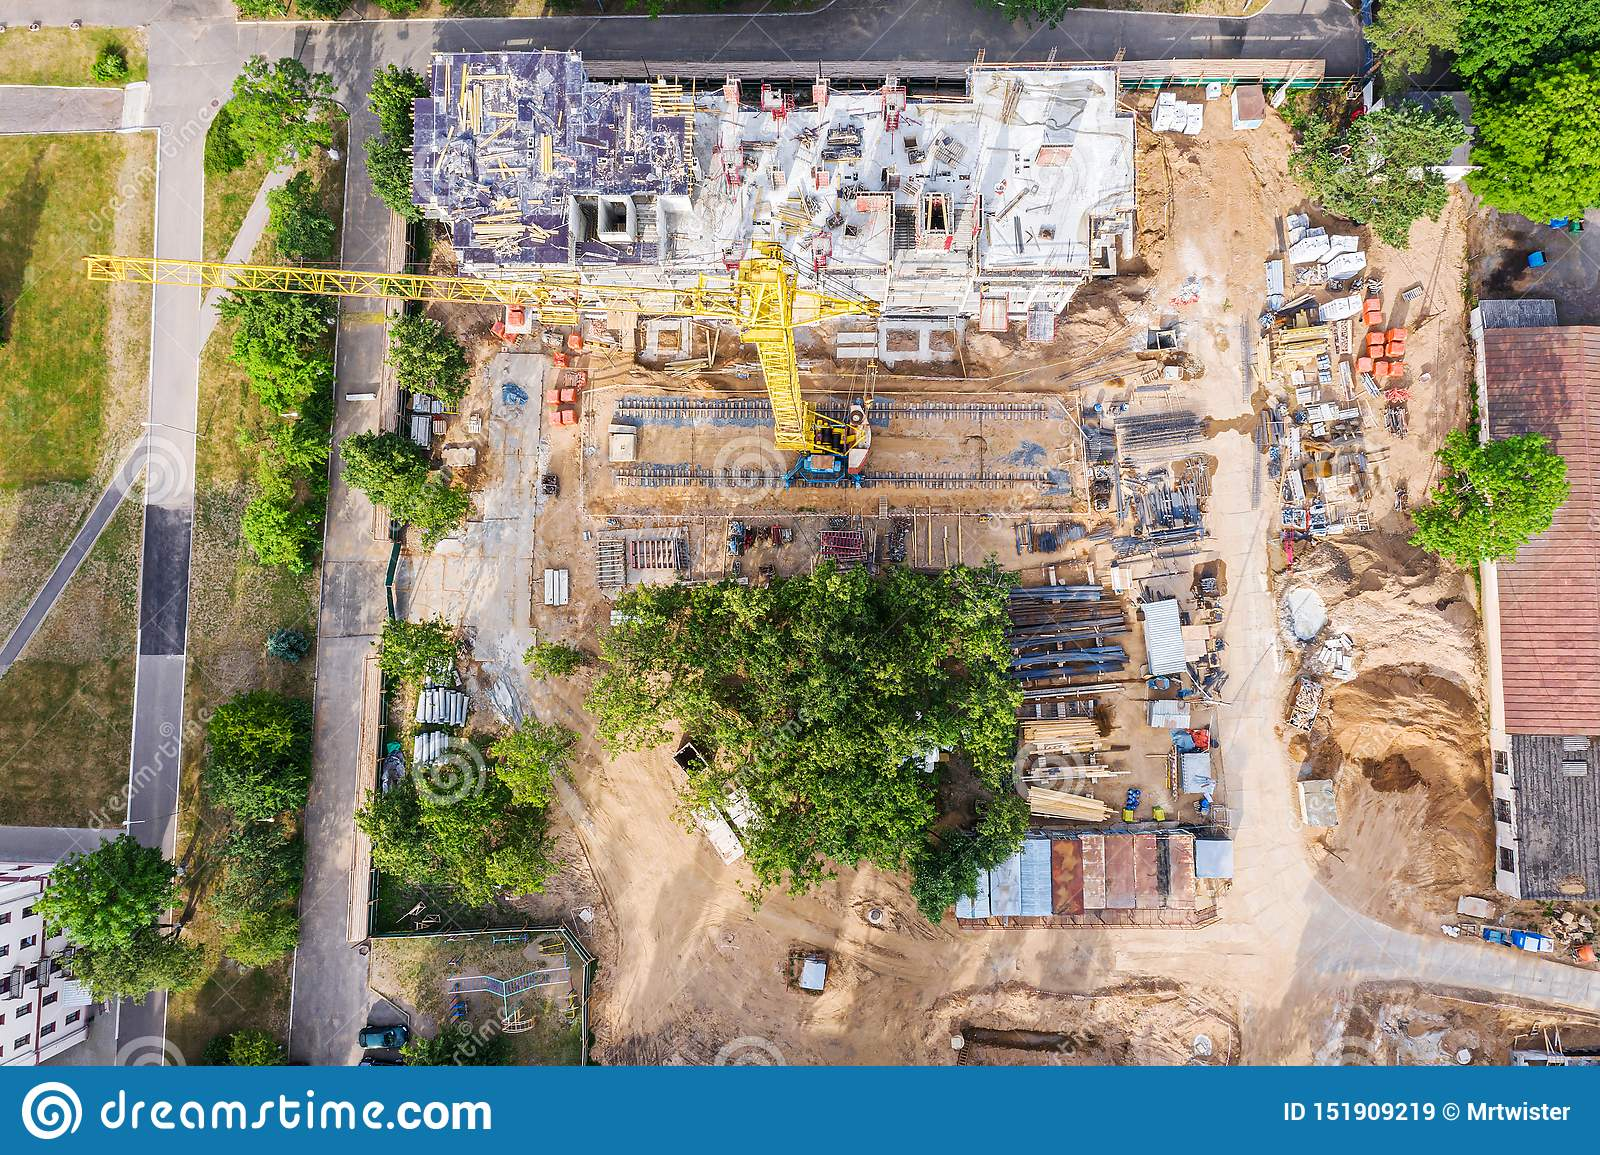crane: (75, 242, 867, 442)
